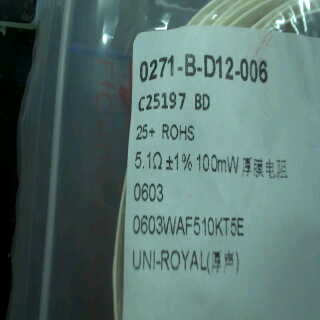5.1R: (130, 145, 168, 180)
